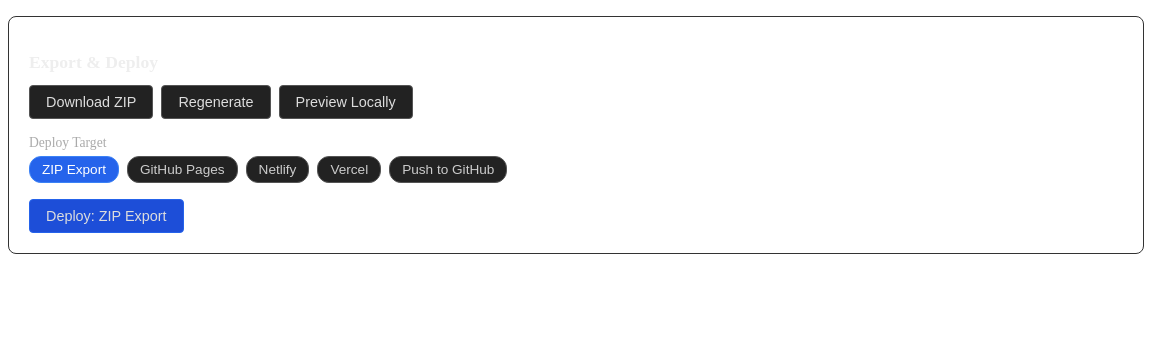
Scenario: DeployPanel › shows error on preview failure
This screenshot has width=1152, height=342.
Click the button "Preview Locally" at (346, 102), box x1=279 y1=85 x2=413 y2=119
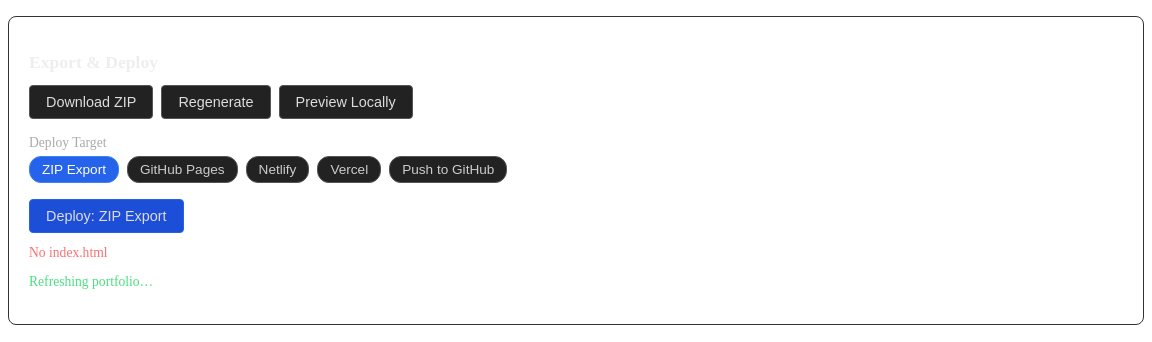
Expected: the text "No index.html" is shown, x1=29 y1=245 x2=108 y2=260
